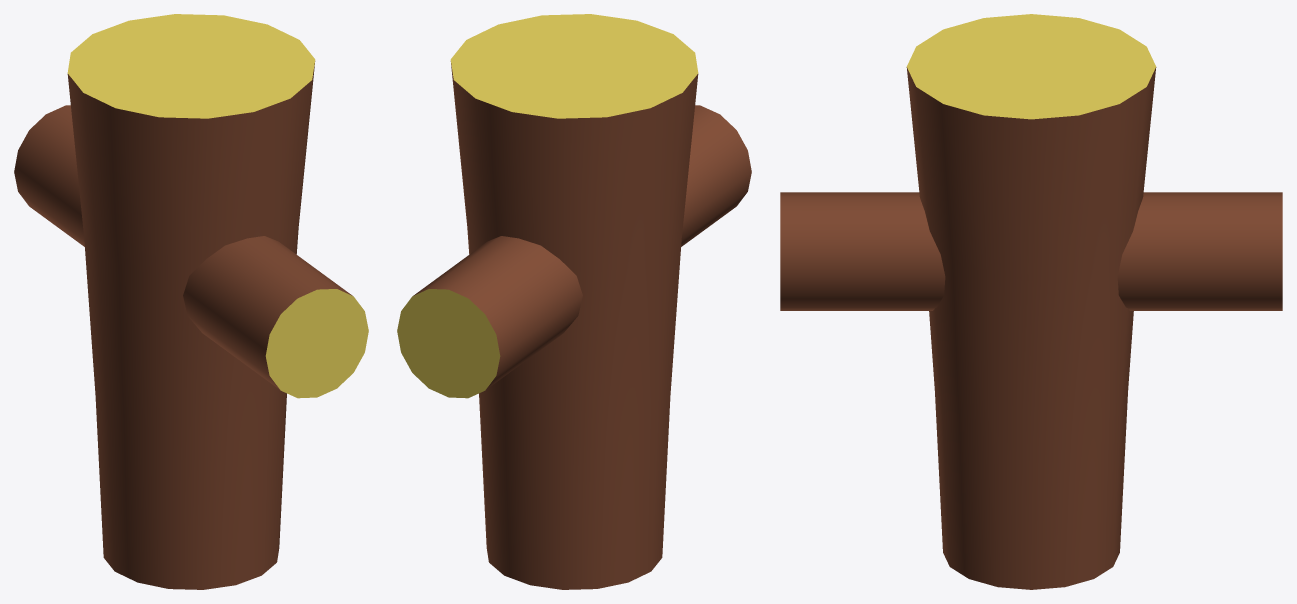
File: fence_02.fbx
3 renders of one model, left to right at view 1: azimuth 30°, elevation 25°; view 2: azimuth 150°, elevation 25°; view 3: azimuth 270°, elevation 25°, orthographic.
Visible parts, largest first — view 1: Cylinder.006; view 2: Cylinder.006; view 3: Cylinder.006.
Part boxes in pixels (<box>): Cylinder.006: <box>14,14,368,589</box>; Cylinder.006: <box>397,14,751,589</box>; Cylinder.006: <box>780,14,1282,589</box>.
Size of the model in its own units: 50.89 by 109 by 102.
